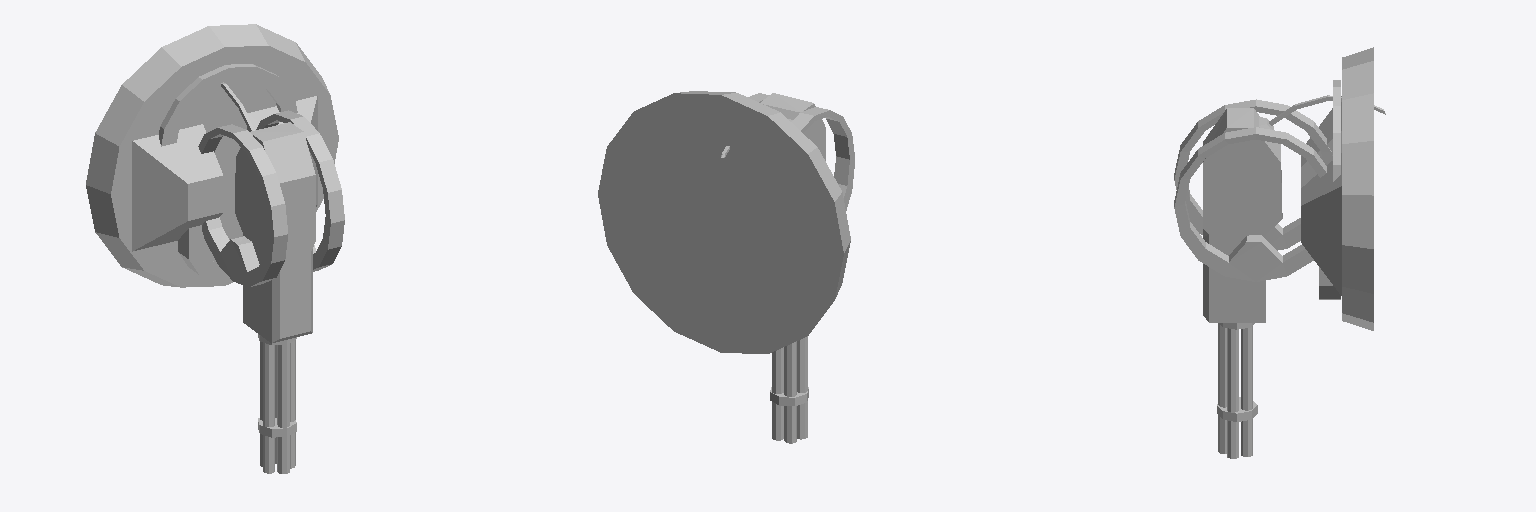
The model's file is tourelle.obj.
3 views of the same model, side by side, from view 1: azimuth 30°, elevation 25°; view 2: azimuth 150°, elevation 25°; view 3: azimuth 270°, elevation 25° (orthographic).
Parts seen in each view (by area): view 1: Cube.001_Cube.002; view 2: Cube.001_Cube.002; view 3: Cube.001_Cube.002.
Part boxes in pixels (x1,y1,x2,y2): Cube.001_Cube.002: (86, 24, 344, 473); Cube.001_Cube.002: (598, 91, 854, 443); Cube.001_Cube.002: (1174, 47, 1385, 458).
Bounding box in the file's own units: 3.48 × 5.28 × 2.59.